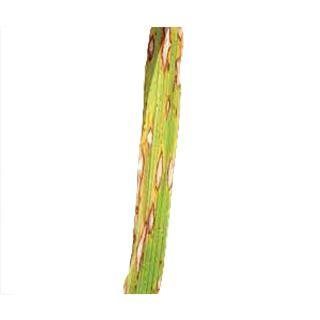Blast: (118, 199, 162, 267), (134, 121, 158, 180), (158, 29, 183, 78), (144, 157, 180, 186), (143, 30, 162, 72), (160, 88, 181, 121), (144, 272, 168, 292)
